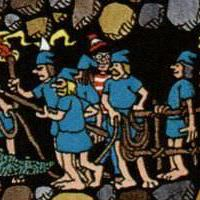waldo: (94, 36, 109, 74)
